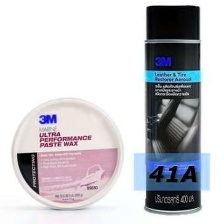aerosol_cans: (138, 2, 207, 218)
